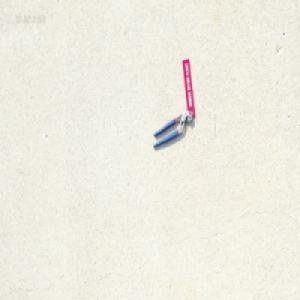Label: (182, 57, 196, 118)
Pliers: (152, 110, 192, 150)
